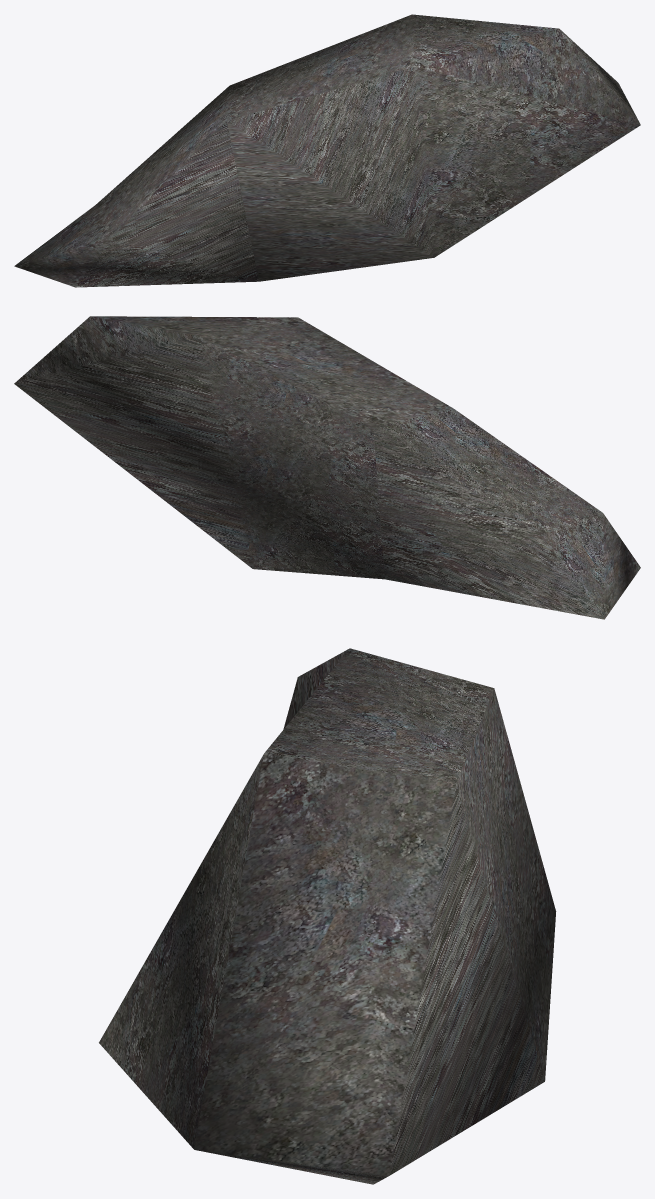
The model's file is rock_forestriverrock_sm_a1_l2.fbx.
3 views of the same model, one above another, from view 1: azimuth 30°, elevation 25°; view 2: azimuth 150°, elevation 25°; view 3: azimuth 270°, elevation 25° (orthographic). The views are drawn at different scales.
Visible parts, largest first — view 1: mesh_node; view 2: mesh_node; view 3: mesh_node.
Part boxes in pixels (x1,y1,x2,y2): mesh_node: [14, 14, 640, 287]; mesh_node: [14, 316, 640, 619]; mesh_node: [99, 648, 556, 1184].
Bounding box in the file's own units: 0.9347 × 0.2837 × 0.3198.
Materials: 1 (1 with a texture image).
